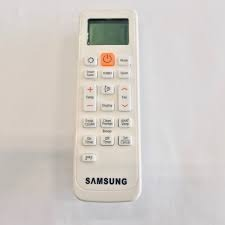remote control: (78, 12, 138, 199)
